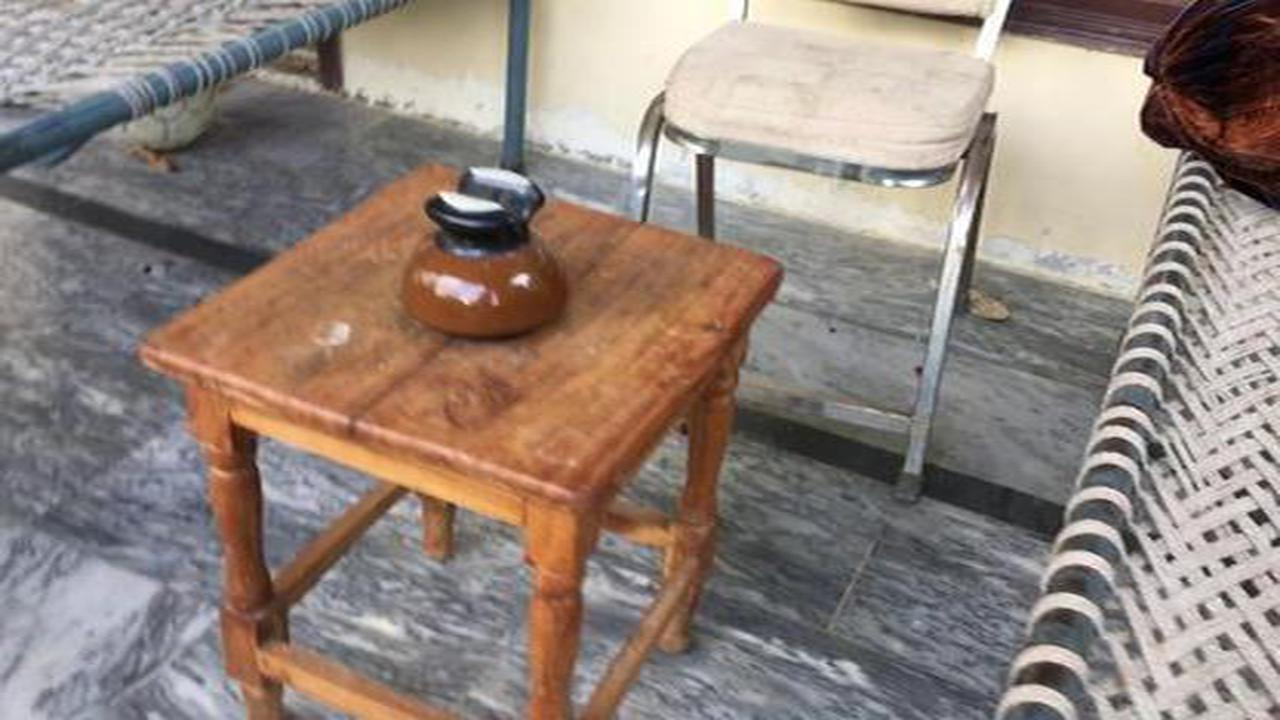insulator_pin: (382, 149, 591, 348)
